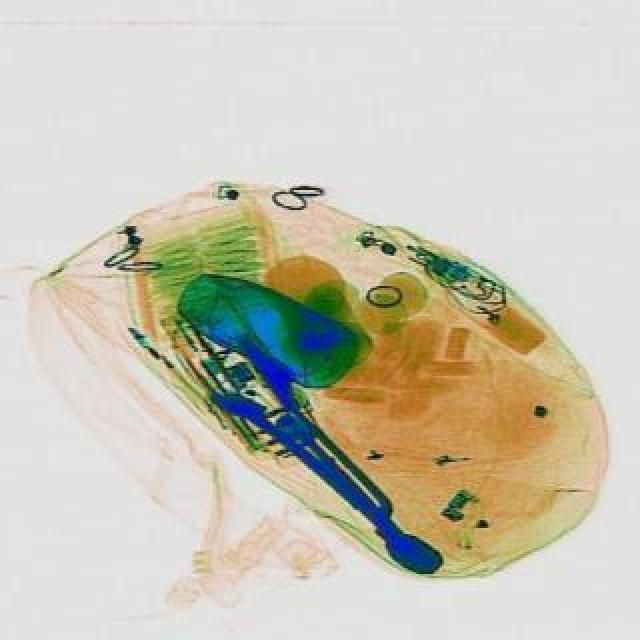scissors: (206, 372, 446, 584)
